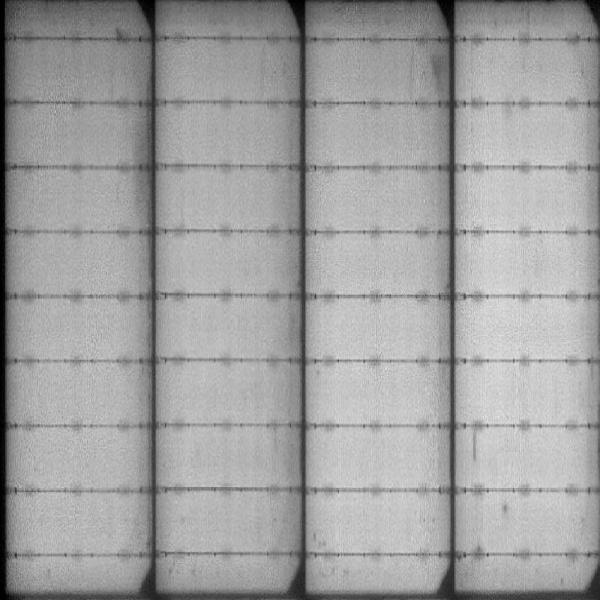scratch: (469, 432, 486, 459)
